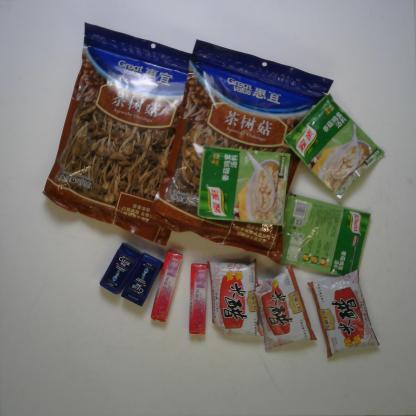Candy: (150, 249, 183, 323), (188, 262, 208, 336)
Dried Food: (149, 35, 334, 266), (40, 16, 195, 250)
Personal Hygiene: (98, 240, 143, 296), (120, 251, 164, 307)
Seasoner: (283, 91, 386, 201), (193, 142, 291, 228), (278, 191, 372, 279), (306, 268, 380, 360), (254, 262, 317, 353), (206, 256, 265, 339)
